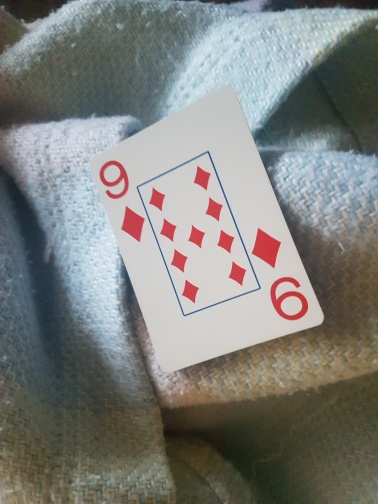nine: (85, 79, 326, 373)
